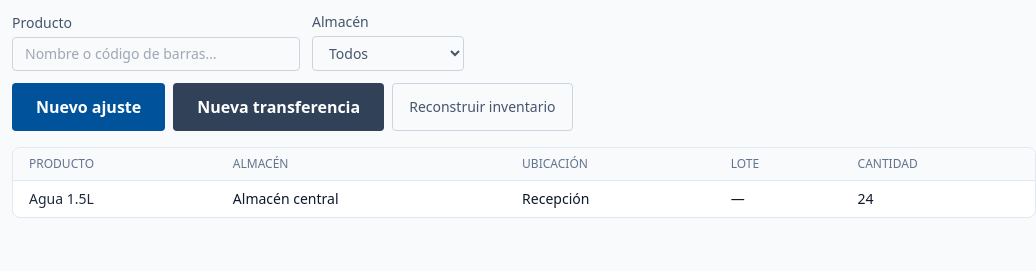
InventoryBalancesPage › rebuilds the stock balance projection after confirming
Expected: the table is shown, [13,148,1035,217]
Click the button "Reconstruir inventario".
click(482, 107)  # box [392,83,573,131]
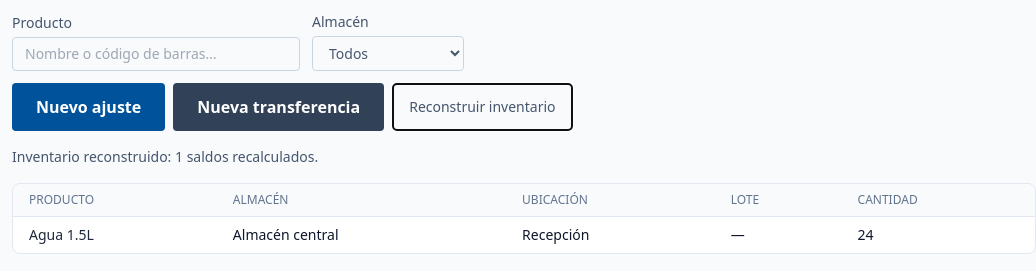
Result: the text "Inventario reconstruido: 1 saldos recalculados." is shown at [12,147,318,166]
